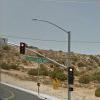Traffic light: (14, 37, 34, 61)
